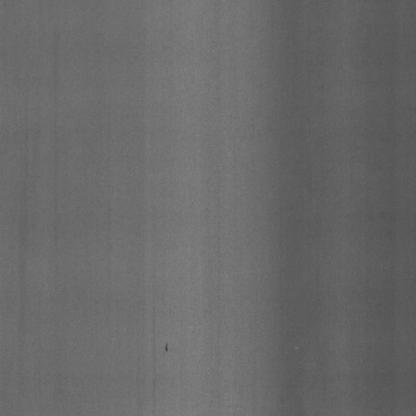inclusion: (160, 337, 170, 357)
